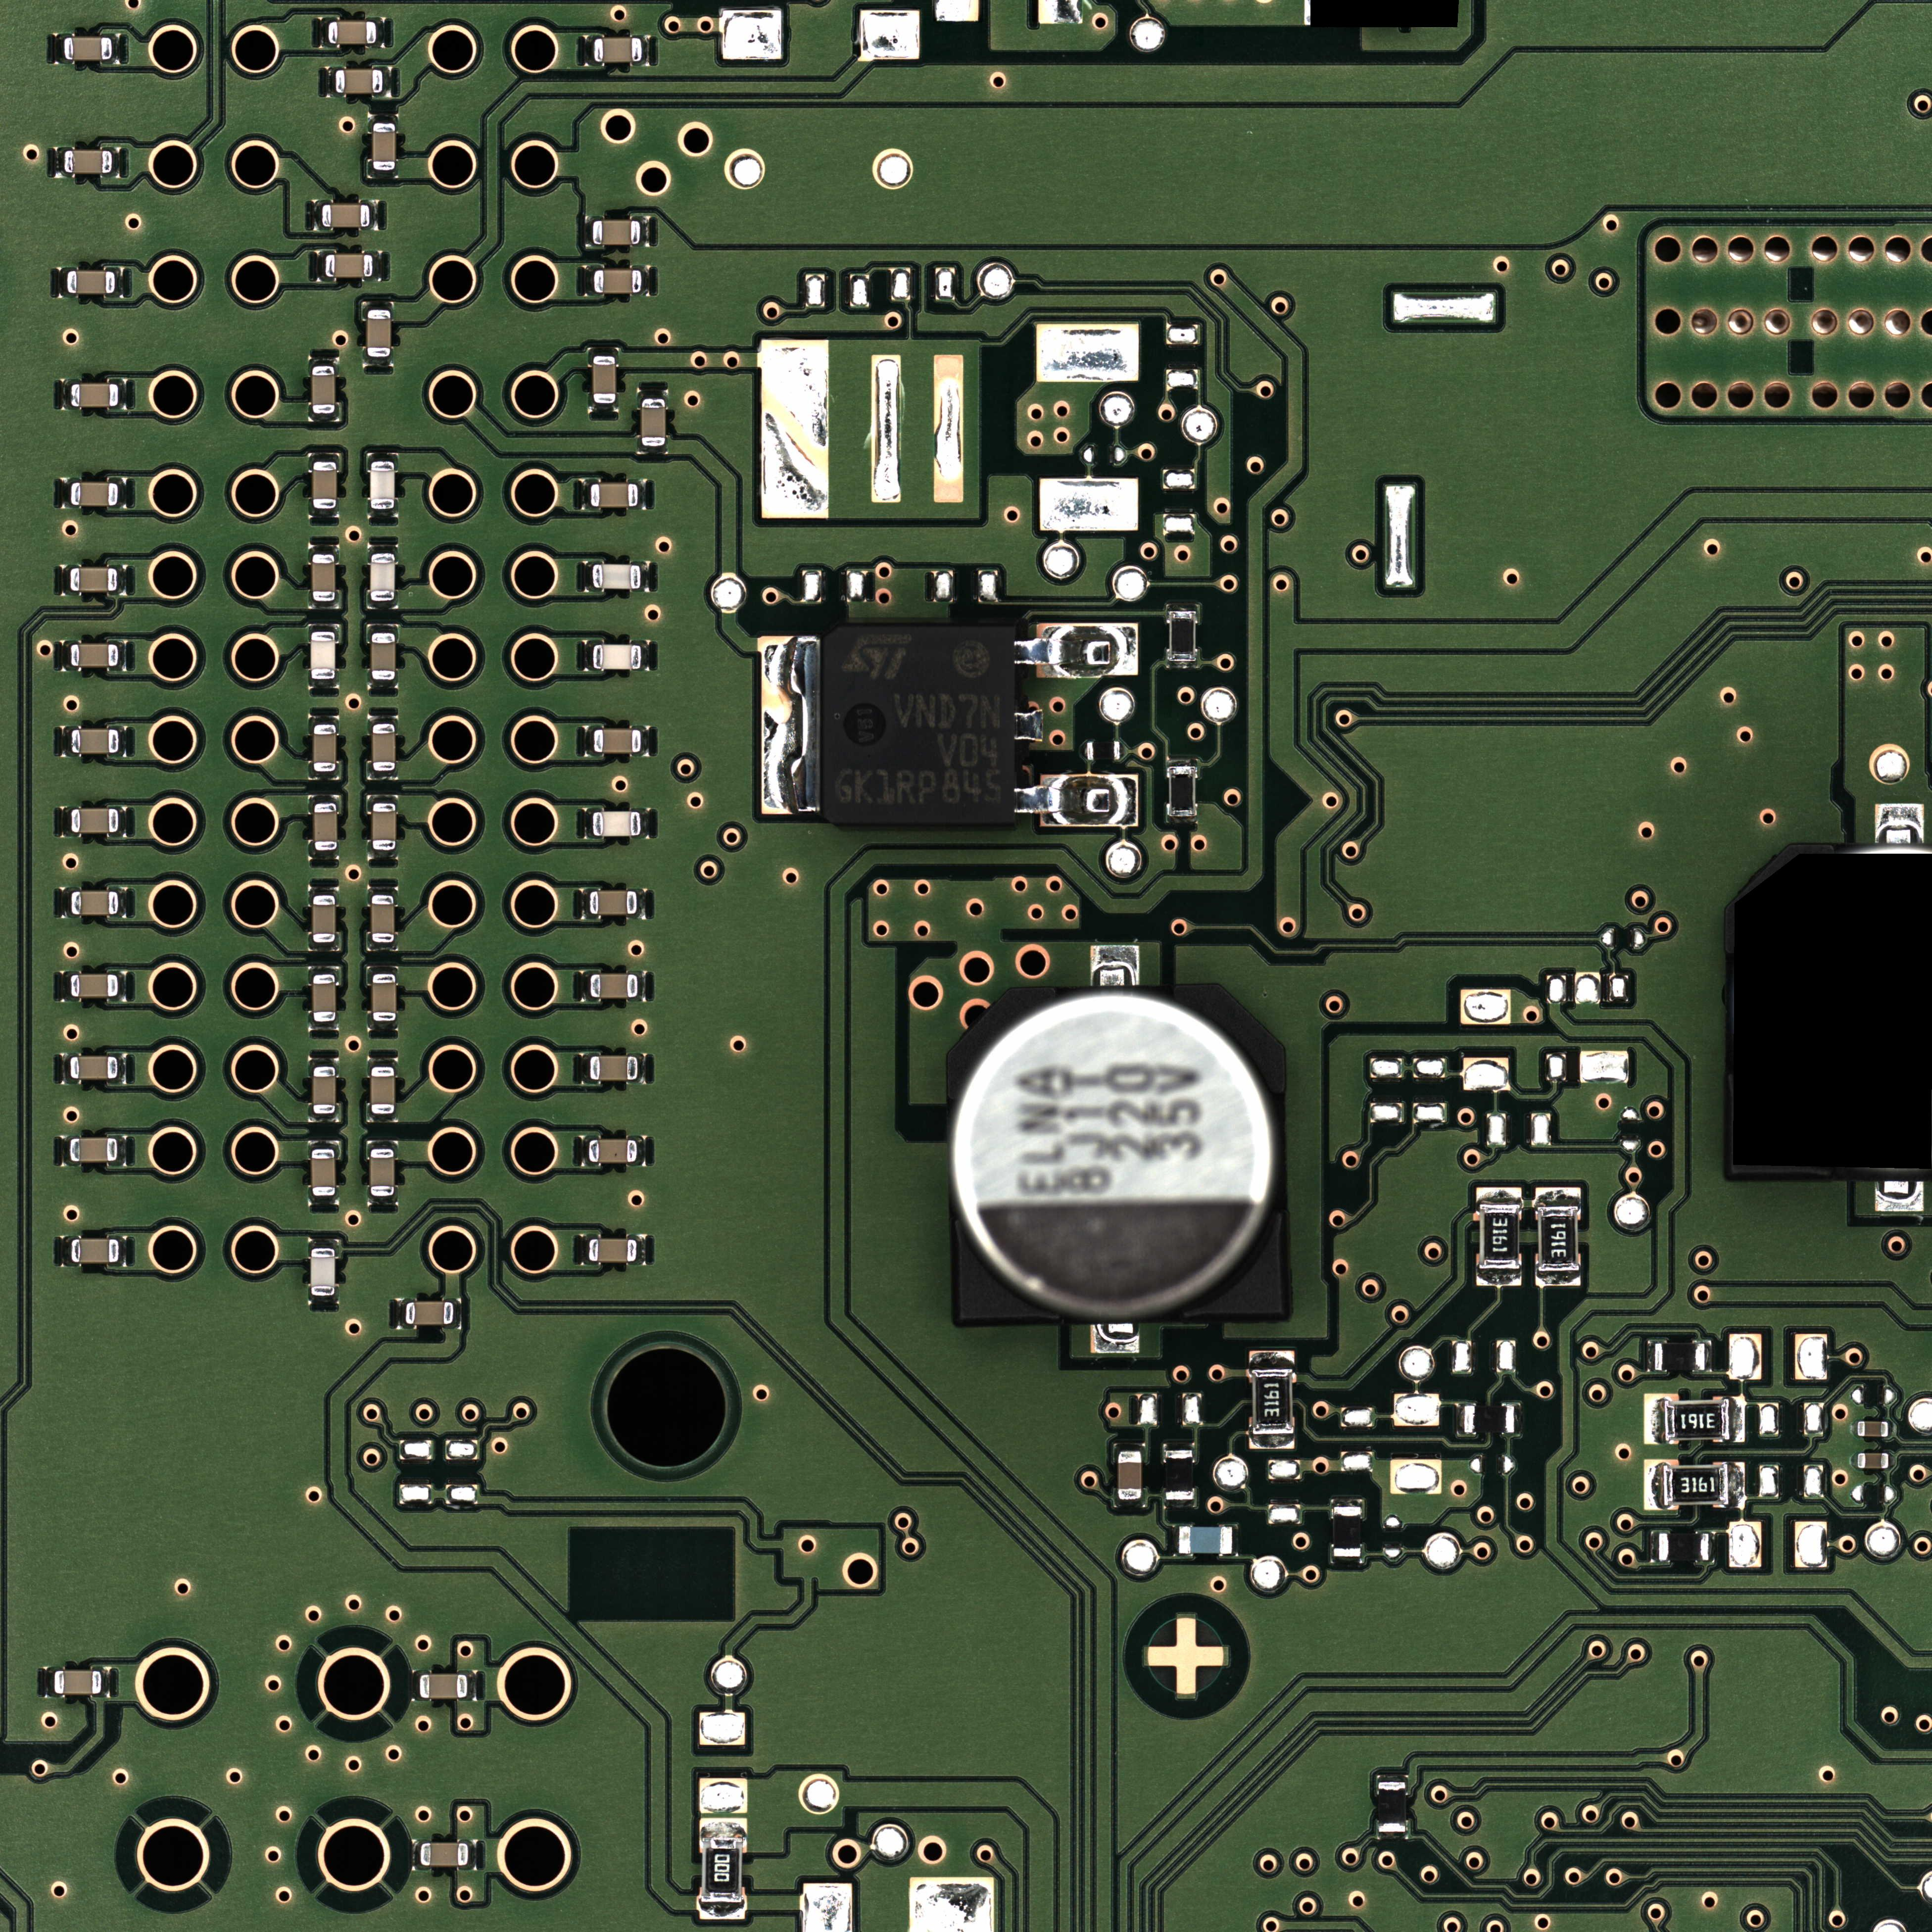Package: (945, 984, 1293, 1322), (821, 625, 1016, 824), (1537, 1207, 1580, 1272), (1251, 1369, 1293, 1435), (702, 1838, 743, 1904), (1663, 1465, 1729, 1506), (1479, 1205, 1520, 1269), (1665, 1399, 1729, 1440), (1178, 1527, 1233, 1553), (1654, 1343, 1706, 1371), (1463, 1405, 1514, 1433), (1378, 1782, 1407, 1831), (1660, 1532, 1709, 1560), (1169, 610, 1196, 662), (1334, 1507, 1361, 1557), (1166, 1451, 1192, 1500), (1169, 766, 1196, 816), (370, 1067, 396, 1115), (311, 895, 336, 943), (71, 809, 119, 833), (71, 481, 119, 506), (593, 219, 640, 244), (593, 644, 640, 669), (372, 724, 396, 771), (311, 632, 336, 679), (71, 1238, 119, 1263), (589, 1056, 637, 1081), (591, 483, 639, 508), (589, 890, 637, 915), (593, 812, 640, 837), (370, 1148, 395, 1196), (370, 462, 395, 510), (311, 554, 336, 602), (593, 564, 640, 589), (370, 554, 395, 602), (322, 203, 370, 228), (366, 310, 391, 357), (419, 1674, 467, 1698), (594, 37, 642, 62), (372, 633, 396, 679), (336, 69, 382, 94), (55, 1670, 101, 1695), (313, 803, 338, 849), (372, 803, 396, 849), (372, 975, 396, 1021), (73, 729, 119, 754), (311, 1067, 336, 1113), (591, 973, 637, 998), (71, 568, 117, 593), (71, 1138, 117, 1162), (311, 1150, 336, 1196), (594, 729, 640, 754), (594, 269, 640, 294), (405, 1302, 453, 1325), (589, 1238, 637, 1261), (71, 384, 119, 407), (71, 644, 119, 667), (71, 975, 119, 998), (71, 892, 119, 915), (593, 356, 616, 403), (67, 271, 115, 294), (373, 122, 396, 170), (311, 366, 334, 414), (326, 255, 373, 278), (64, 150, 111, 173), (64, 37, 111, 60), (313, 724, 336, 771), (642, 398, 665, 446), (589, 1139, 637, 1162), (372, 895, 395, 943), (1118, 1451, 1141, 1499), (421, 1844, 469, 1867), (329, 21, 377, 44), (311, 1249, 334, 1295), (71, 1056, 117, 1079), (313, 462, 336, 508), (313, 975, 336, 1021), (1086, 741, 1120, 761), (1858, 1421, 1888, 1437), (1858, 1453, 1888, 1468)
Solder: (761, 635, 821, 814), (1016, 773, 1139, 828), (1016, 623, 1138, 676), (1090, 945, 1139, 985), (1875, 803, 1925, 842), (1874, 1182, 1925, 1214), (1092, 1323, 1139, 1353), (1644, 1458, 1663, 1511), (1644, 1394, 1663, 1445), (699, 1819, 747, 1838), (1016, 709, 1044, 741), (1536, 1187, 1582, 1207), (1249, 1350, 1295, 1369), (1476, 1187, 1522, 1205), (1476, 1270, 1522, 1286), (699, 1904, 745, 1920), (1729, 1461, 1744, 1507), (1536, 1272, 1582, 1286), (1249, 1435, 1295, 1449), (1730, 1398, 1744, 1442), (366, 623, 398, 633), (640, 216, 651, 248), (308, 1021, 338, 1031), (368, 1021, 398, 1031), (467, 1670, 478, 1700), (101, 1667, 111, 1697), (308, 966, 341, 975), (366, 771, 398, 780), (366, 794, 398, 803), (1330, 1499, 1362, 1507), (308, 623, 340, 632), (637, 446, 669, 455), (308, 679, 340, 688), (62, 725, 71, 757), (310, 1115, 341, 1123), (310, 794, 341, 803), (584, 725, 593, 757), (308, 1139, 340, 1148), (62, 379, 71, 410), (366, 1115, 398, 1123), (62, 478, 71, 510), (366, 1139, 398, 1148), (361, 301, 393, 310), (366, 943, 398, 952), (366, 453, 398, 462), (308, 453, 340, 462), (117, 564, 126, 596), (640, 561, 649, 593), (587, 347, 619, 356), (584, 640, 593, 672), (584, 216, 593, 248), (637, 888, 646, 920), (1168, 757, 1198, 766), (308, 545, 338, 554), (310, 771, 340, 780), (368, 1058, 398, 1067), (310, 510, 340, 518), (308, 357, 338, 366), (368, 113, 398, 122), (368, 545, 398, 554), (310, 943, 340, 952), (368, 715, 398, 724), (363, 357, 393, 366), (308, 1058, 338, 1067), (412, 1840, 421, 1870), (326, 67, 334, 97), (308, 1238, 338, 1247), (368, 170, 398, 179), (368, 679, 398, 688), (308, 886, 338, 895), (368, 851, 398, 860), (368, 510, 398, 518), (1164, 1442, 1194, 1451), (368, 886, 398, 895), (318, 18, 327, 48), (1115, 1442, 1145, 1451), (580, 971, 589, 1001), (317, 251, 326, 281), (584, 265, 593, 295), (310, 1196, 340, 1205), (469, 1840, 478, 1870), (62, 888, 71, 918), (370, 200, 379, 230), (384, 67, 393, 97), (310, 414, 340, 423), (368, 1196, 398, 1205), (377, 18, 386, 48), (310, 851, 340, 860), (582, 479, 591, 510), (1378, 1831, 1408, 1840), (580, 888, 589, 918), (62, 807, 71, 837), (62, 971, 71, 1001), (313, 200, 322, 230), (373, 251, 382, 281), (637, 1235, 646, 1265), (62, 1237, 71, 1267), (410, 1670, 419, 1700), (584, 561, 593, 591), (62, 640, 71, 671), (584, 809, 593, 839), (308, 1295, 338, 1304), (637, 1136, 646, 1166), (639, 389, 667, 398), (310, 715, 338, 724), (589, 403, 617, 412), (580, 1054, 589, 1083), (119, 1054, 127, 1083), (1166, 817, 1198, 824), (366, 966, 398, 973), (1456, 1403, 1463, 1435), (57, 147, 64, 179), (1651, 1530, 1658, 1562), (642, 725, 649, 757), (1166, 603, 1198, 610), (1115, 1500, 1146, 1507), (366, 602, 398, 609), (455, 1299, 462, 1330), (1514, 1403, 1522, 1435), (62, 564, 69, 596), (46, 1667, 53, 1698), (1332, 1557, 1362, 1564), (1168, 662, 1198, 669), (310, 602, 340, 609), (1647, 1341, 1654, 1371), (60, 267, 67, 297), (642, 265, 649, 295), (62, 1136, 69, 1166), (1164, 1500, 1194, 1507), (1706, 1341, 1713, 1371), (1709, 1532, 1716, 1562), (642, 35, 649, 65), (586, 35, 593, 65), (582, 1136, 589, 1166), (115, 267, 122, 297), (62, 1054, 69, 1085), (582, 1235, 589, 1265), (639, 971, 646, 1001), (398, 1299, 405, 1329), (119, 379, 126, 409), (642, 640, 649, 671), (119, 640, 126, 671), (57, 34, 64, 64), (639, 479, 646, 510), (111, 34, 119, 64), (642, 809, 649, 839), (119, 478, 126, 508), (1171, 1525, 1178, 1555), (1378, 1775, 1407, 1782), (119, 1136, 126, 1164), (119, 971, 126, 1000), (119, 888, 126, 916), (119, 807, 126, 835), (119, 1237, 126, 1265), (639, 1054, 646, 1083), (119, 727, 126, 755), (1233, 1525, 1238, 1555), (113, 147, 119, 177), (1888, 1453, 1897, 1468), (1888, 1421, 1895, 1438), (1851, 1453, 1858, 1468), (1851, 1421, 1858, 1437), (1120, 741, 1125, 759), (1081, 741, 1086, 759)
